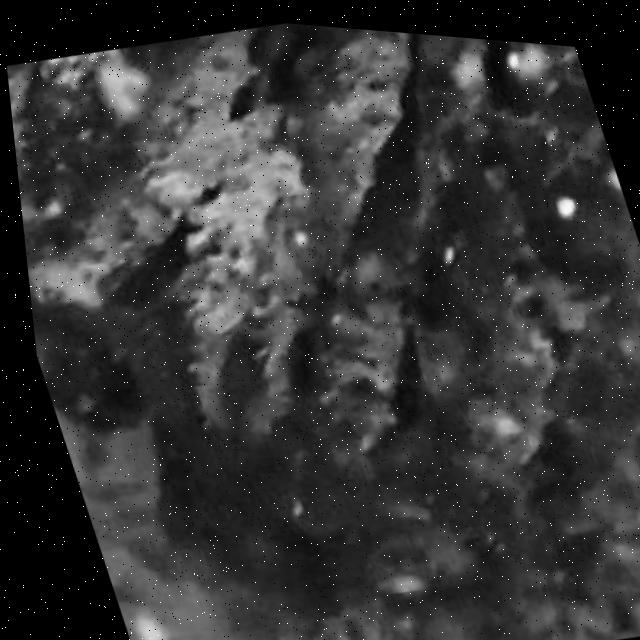Oyster-Closed: (469, 284, 575, 488)
Oyster-Indeterminate: (28, 25, 272, 308)
Oyster-Open: (299, 29, 447, 282), (189, 148, 317, 437), (321, 279, 446, 468), (464, 38, 528, 145)
